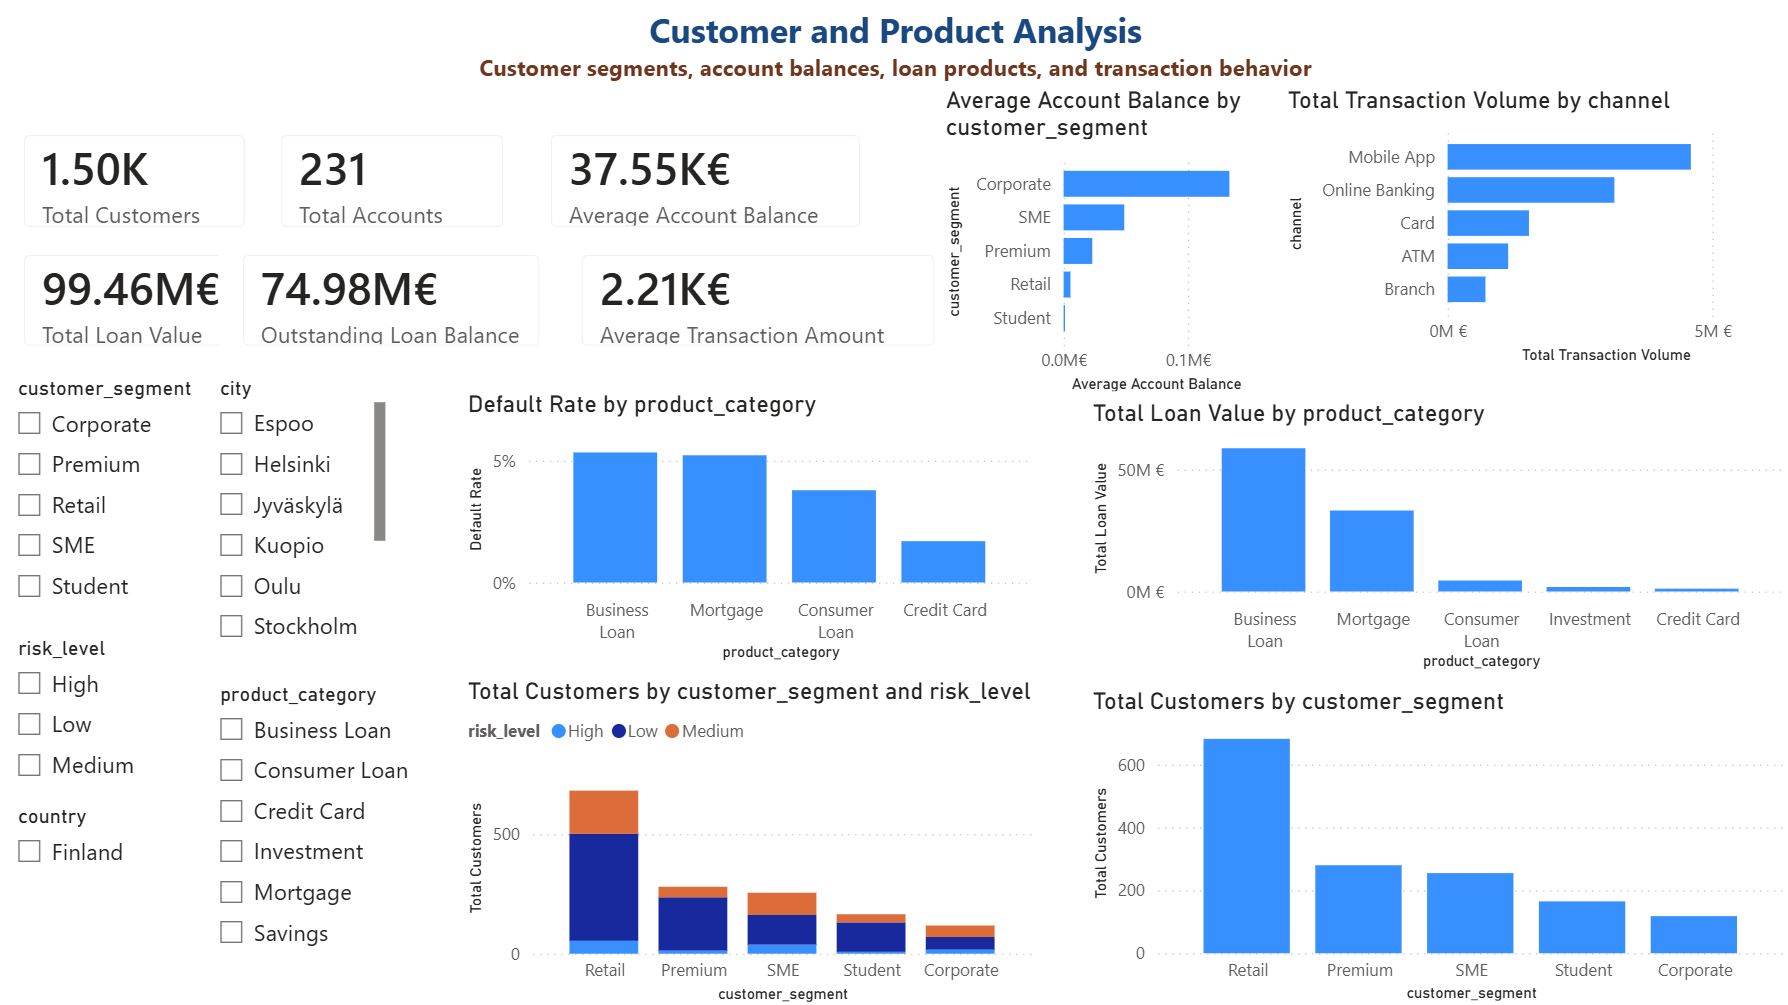

The page's visual inventory and layout, read from the dashboard file:
{"tool":"powerbi","page":{"name":"Customer Product Analysis","canvas":[1280,720],"ordinal":2},"visuals":[{"type":"textbox","box":[329.2,0,620.8,79.2],"z":0},{"type":"cardVisual","fields":{"Data":["_Measures.Total Customers"]},"box":[0,79.2,192.5,100.8],"z":1000},{"type":"cardVisual","fields":{"Data":["_Measures.Total Accounts"]},"box":[183.3,79.2,193.3,100.8],"z":2000},{"type":"cardVisual","fields":{"Data":["_Measures.Average Account Balance"]},"box":[376.7,79.2,255.8,100.8],"z":3000},{"type":"cardVisual","fields":{"Data":["_Measures.Total Loan Value"]},"box":[0,165,193.3,99.2],"z":4000},{"type":"cardVisual","fields":{"Data":["_Measures.Outstanding Loan Balance"]},"box":[156.7,165,246.7,99.2],"z":5000},{"type":"cardVisual","fields":{"Data":["_Measures.Average Transaction Amount"]},"box":[398.3,165,286.7,99.2],"z":6000},{"type":"slicer","fields":{"Values":["customers.customer_segment"]},"box":[0,264.2,193.3,179.2],"z":7000},{"type":"slicer","fields":{"Values":["customers.risk_level"]},"box":[0,450,193.3,120],"z":8000},{"type":"slicer","fields":{"Values":["branches.country"]},"box":[0,570,193.3,150],"z":9000},{"type":"slicer","fields":{"Values":["branches.city"]},"box":[144.2,264.2,135.8,197.5],"z":10000},{"type":"slicer","fields":{"Values":["products.product_category"]},"box":[144.2,482.5,172.5,237.5],"z":11000},{"type":"clusteredColumnChart","fields":{"Category":["customers.customer_segment"],"Y":["_Measures.Total Customers"]},"box":[775.8,490.8,504.2,229.2],"z":12000},{"type":"clusteredBarChart","fields":{"Category":["customers.customer_segment"],"Y":["_Measures.Average Account Balance"]},"box":[670.8,61.7,244.2,223.3],"z":13000},{"type":"clusteredColumnChart","fields":{"Category":["products.product_category"],"Y":["_Measures.Total Loan Value"]},"box":[775.8,285,504.2,197.5],"z":14000},{"type":"clusteredColumnChart","fields":{"Category":["products.product_category"],"Y":["_Measures.Default Rate"]},"box":[329.2,278.3,413.3,197.5],"z":15000},{"type":"clusteredBarChart","fields":{"Y":["_Measures.Total Transaction Volume"],"Category":["transactions.channel"]},"box":[915,61.7,365,202.5],"z":16000},{"type":"columnChart","fields":{"Category":["customers.customer_segment"],"Y":["_Measures.Total Customers"],"Series":["customers.risk_level"]},"box":[329.2,483.3,413.3,236.7],"z":17000}]}

Visuals, with their boxes in screenshot pixels (x1, y1, x2, y2), scaled from the page's 1280x720 canvas onto the 1788x1005 screenshot:
textbox: [x1=460, y1=0, x2=1327, y2=111]
cardVisual - _Measures.Total Customers: [x1=0, y1=111, x2=269, y2=251]
cardVisual - _Measures.Total Accounts: [x1=256, y1=111, x2=526, y2=251]
cardVisual - _Measures.Average Account Balance: [x1=526, y1=111, x2=884, y2=251]
cardVisual - _Measures.Total Loan Value: [x1=0, y1=230, x2=270, y2=369]
cardVisual - _Measures.Outstanding Loan Balance: [x1=219, y1=230, x2=563, y2=369]
cardVisual - _Measures.Average Transaction Amount: [x1=556, y1=230, x2=957, y2=369]
slicer - customers.customer_segment: [x1=0, y1=369, x2=270, y2=619]
slicer - customers.risk_level: [x1=0, y1=628, x2=270, y2=796]
slicer - branches.country: [x1=0, y1=796, x2=270, y2=1004]
slicer - branches.city: [x1=201, y1=369, x2=391, y2=644]
slicer - products.product_category: [x1=201, y1=673, x2=442, y2=1004]
clusteredColumnChart - customers.customer_segment x _Measures.Total Customers: [x1=1084, y1=685, x2=1787, y2=1004]
clusteredBarChart - customers.customer_segment x _Measures.Average Account Balance: [x1=937, y1=86, x2=1278, y2=398]
clusteredColumnChart - products.product_category x _Measures.Total Loan Value: [x1=1084, y1=398, x2=1787, y2=673]
clusteredColumnChart - products.product_category x _Measures.Default Rate: [x1=460, y1=388, x2=1037, y2=664]
clusteredBarChart - _Measures.Total Transaction Volume x transactions.channel: [x1=1278, y1=86, x2=1787, y2=369]
columnChart - customers.customer_segment x _Measures.Total Customers: [x1=460, y1=675, x2=1037, y2=1004]
